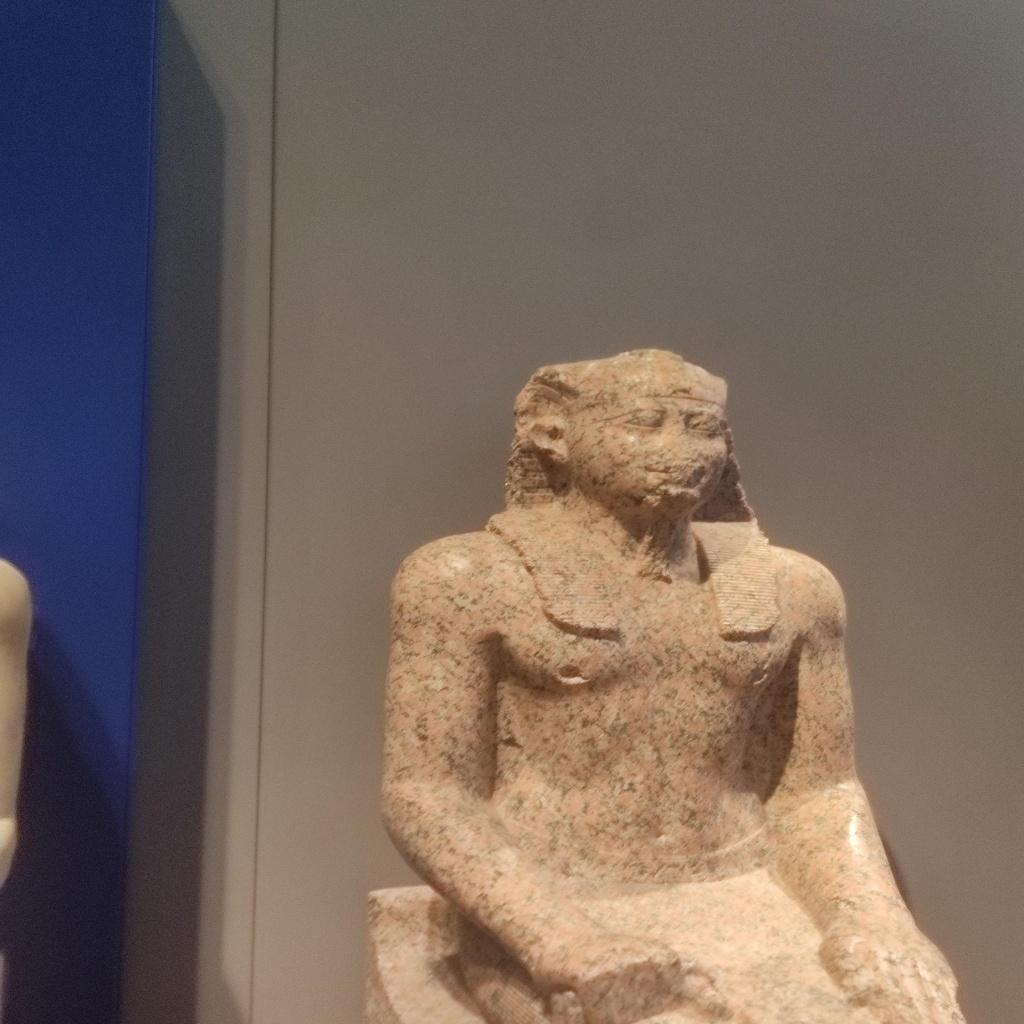Statue of Amenmhat I: (362, 345, 969, 1022)
